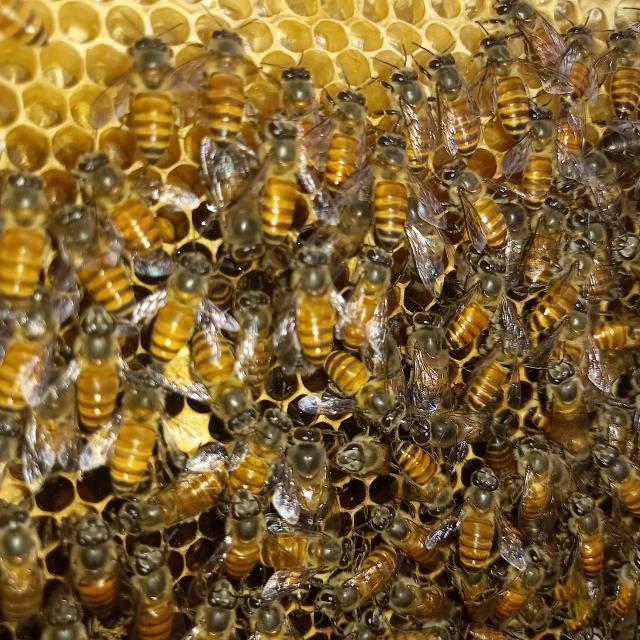honeybee: (34, 175, 144, 291), (66, 297, 152, 443), (90, 163, 207, 261), (197, 334, 295, 438), (81, 515, 160, 640), (0, 507, 71, 640), (130, 543, 224, 633), (424, 462, 514, 550), (278, 255, 349, 362), (259, 62, 336, 158), (182, 158, 274, 238), (148, 458, 263, 520), (207, 520, 351, 569), (351, 256, 413, 366), (381, 49, 449, 148), (331, 421, 413, 503), (139, 261, 220, 344), (357, 139, 417, 246), (0, 194, 66, 291), (195, 569, 282, 640), (400, 582, 503, 640), (13, 306, 75, 402), (113, 28, 171, 130), (543, 509, 614, 590), (272, 434, 338, 518), (522, 426, 569, 539), (415, 36, 466, 139), (507, 293, 607, 344), (351, 503, 449, 554), (327, 359, 413, 417), (592, 38, 640, 141), (443, 171, 513, 240), (434, 278, 488, 366), (323, 582, 402, 640), (498, 135, 569, 197), (171, 64, 235, 128), (539, 21, 580, 116), (567, 212, 614, 293), (520, 590, 607, 631), (524, 351, 578, 417), (470, 40, 516, 116), (304, 109, 362, 169), (445, 366, 503, 424), (494, 240, 548, 302), (586, 417, 625, 488), (592, 329, 620, 394)
